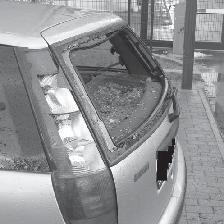broken_glass: (0, 0, 186, 223)
